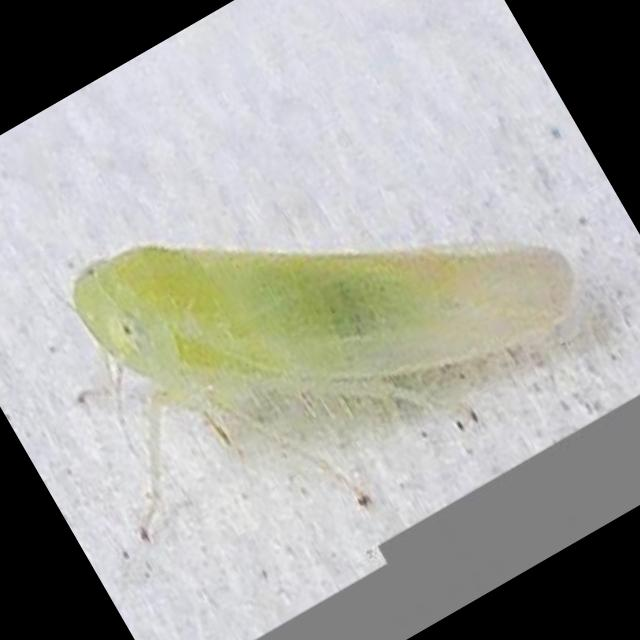green-leafhopper: (53, 59, 607, 560)
